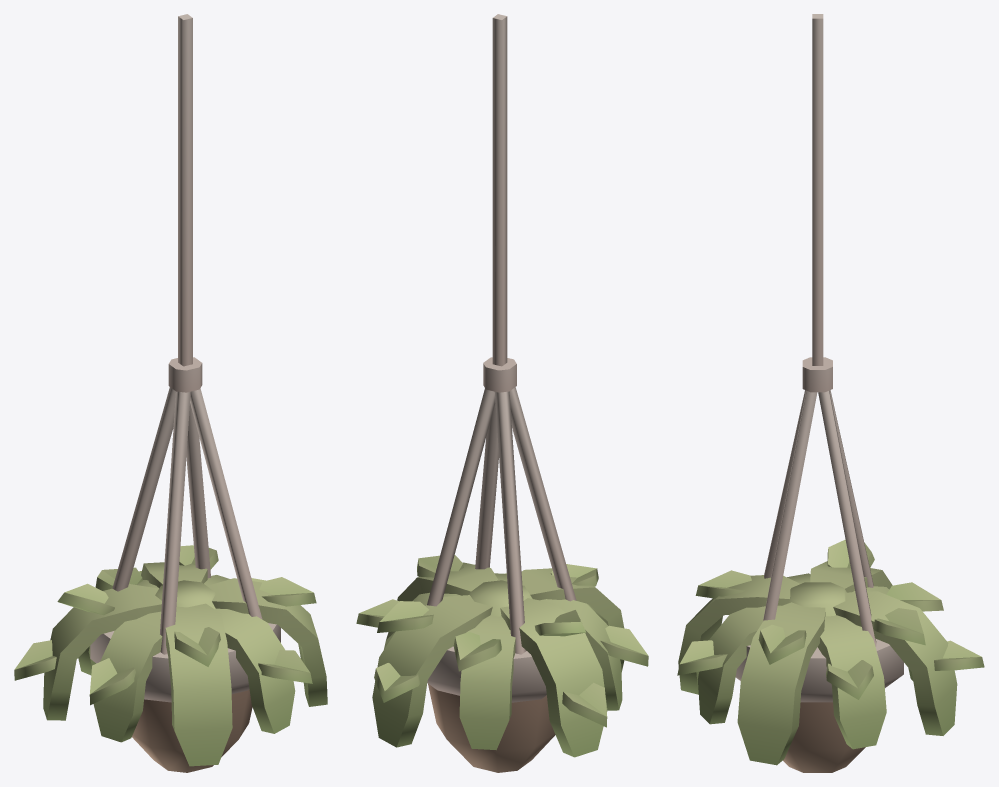
Rendered from plant-hanging-b (%ceiling).glb.
The picture shows the model from 3 angles, left to right: view 1: azimuth 30°, elevation 25°; view 2: azimuth 150°, elevation 25°; view 3: azimuth 270°, elevation 25°; orthographic projection.
Parts seen in each view (by area): view 1: plant-hanging-b (%ceiling); view 2: plant-hanging-b (%ceiling); view 3: plant-hanging-b (%ceiling).
Part boxes in pixels (box(x1,y1,x2,y2)): plant-hanging-b (%ceiling): box(14, 14, 327, 772); plant-hanging-b (%ceiling): box(356, 14, 648, 772); plant-hanging-b (%ceiling): box(677, 14, 984, 772).
Size of the model in its own units: 0.3968 by 1.07 by 0.401.
